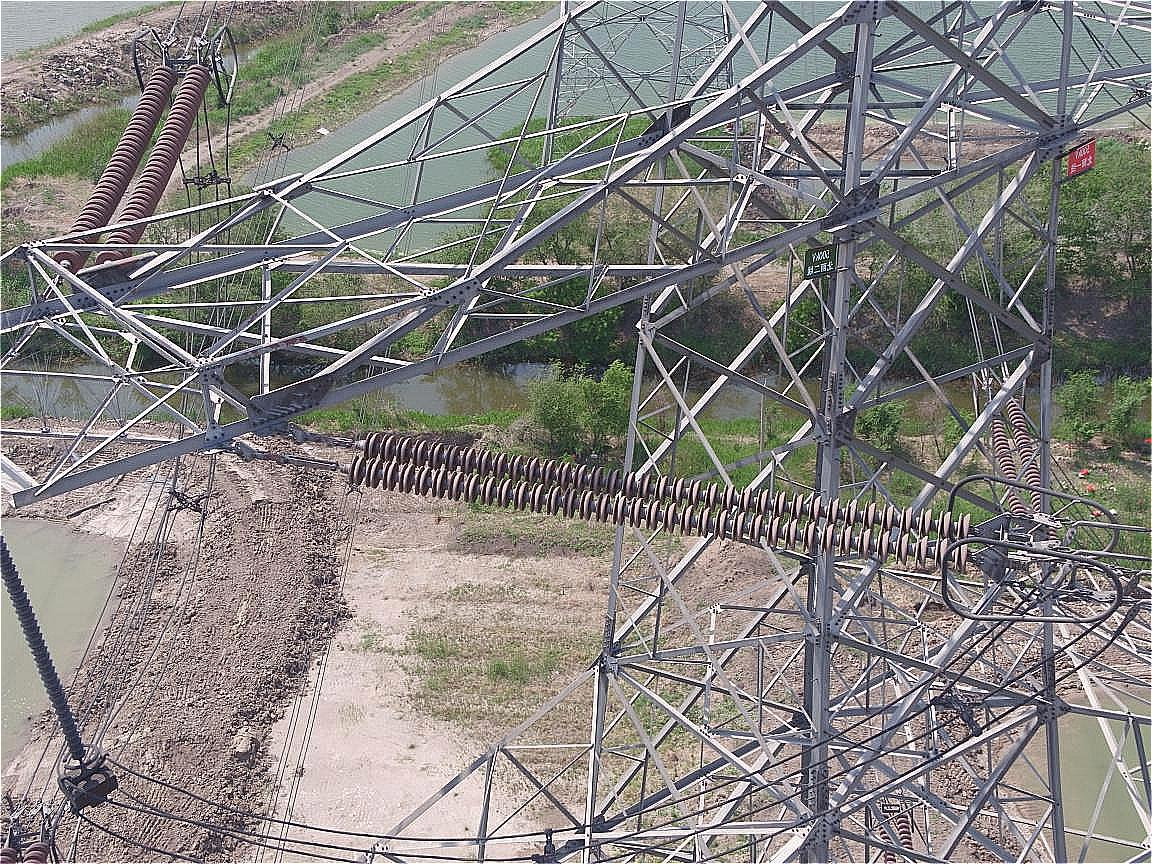insultor2: (294, 426, 1000, 576)
